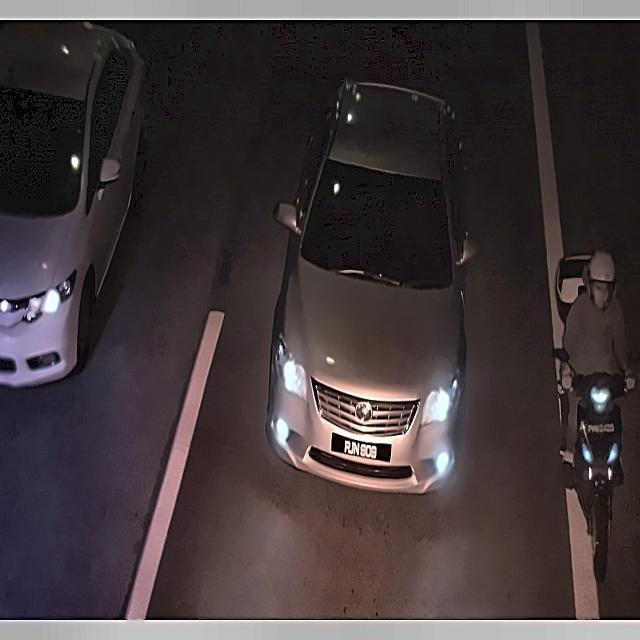car: (330, 423, 396, 473)
